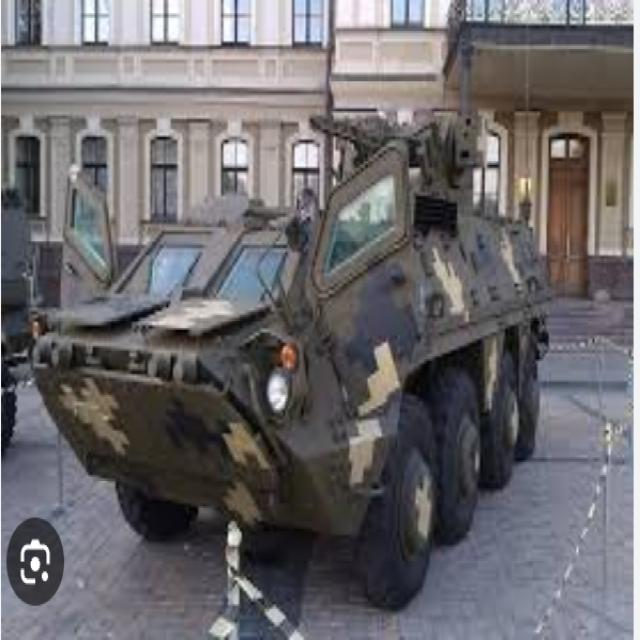MIL_APC: (32, 147, 560, 595)
